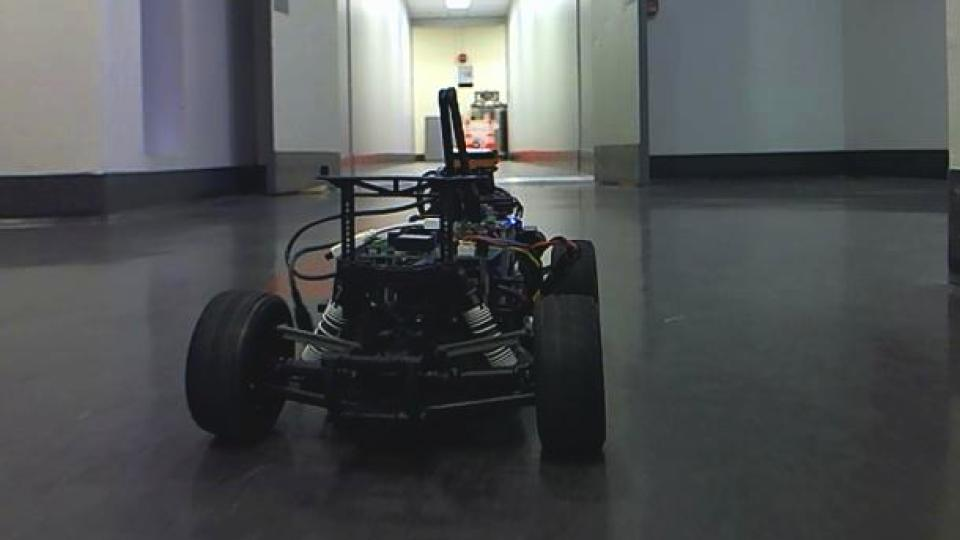car: (182, 84, 610, 462)
